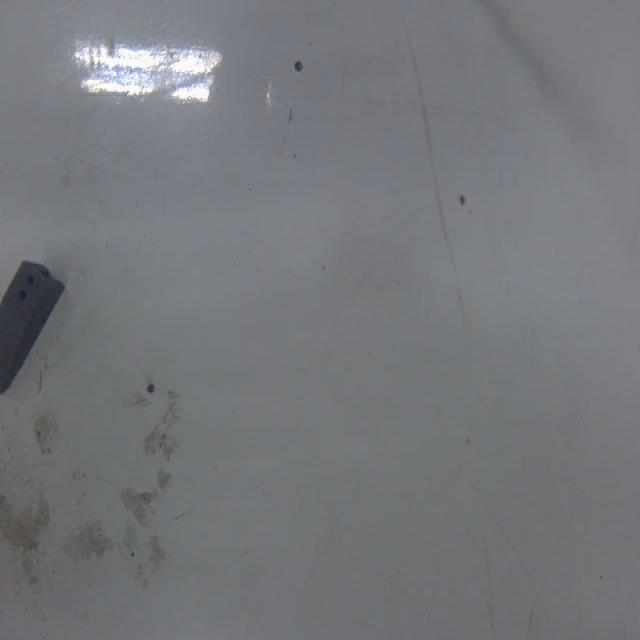grey: (0, 256, 66, 403)
